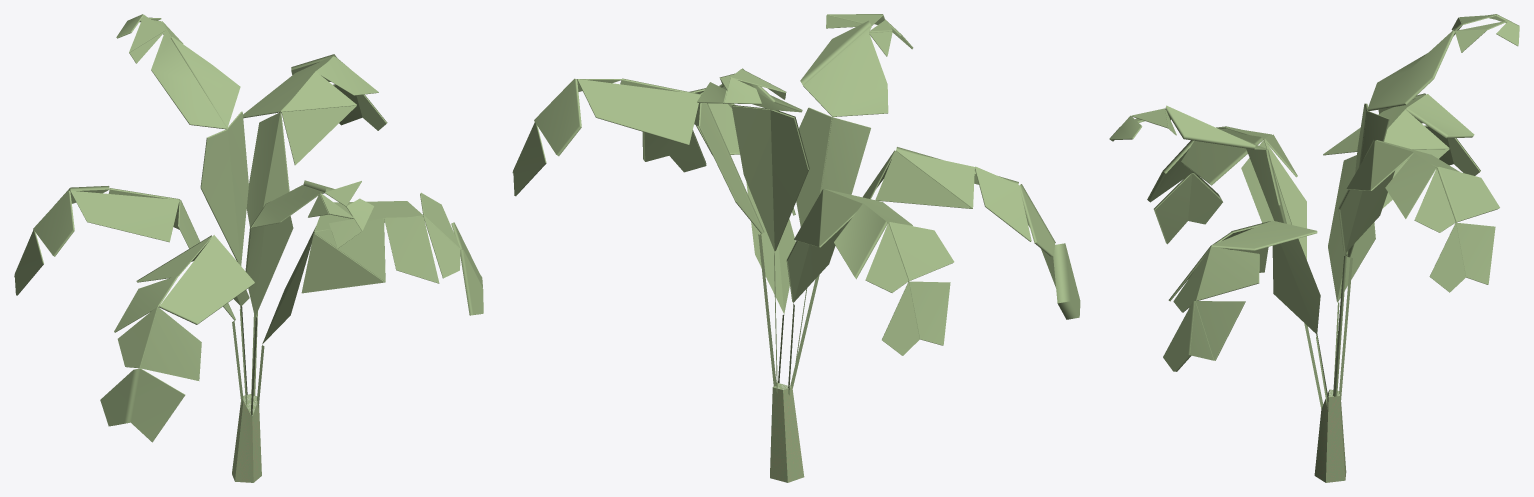
The model's file is Plant_leaves.fbx.
The picture shows the model from 3 angles, left to right: view 1: azimuth 30°, elevation 25°; view 2: azimuth 150°, elevation 25°; view 3: azimuth 270°, elevation 25°; orthographic projection. The views are drawn at different scales.
Parts seen in each view (by area): view 1: Plant_leaves; view 2: Plant_leaves; view 3: Plant_leaves.
Boxes of the visible parts, <box> form: Plant_leaves: <box>14,14,483,482</box>; Plant_leaves: <box>512,14,1080,482</box>; Plant_leaves: <box>1109,14,1519,482</box>.
Bounding box in the file's own units: 17.63 × 18.07 × 15.01.
